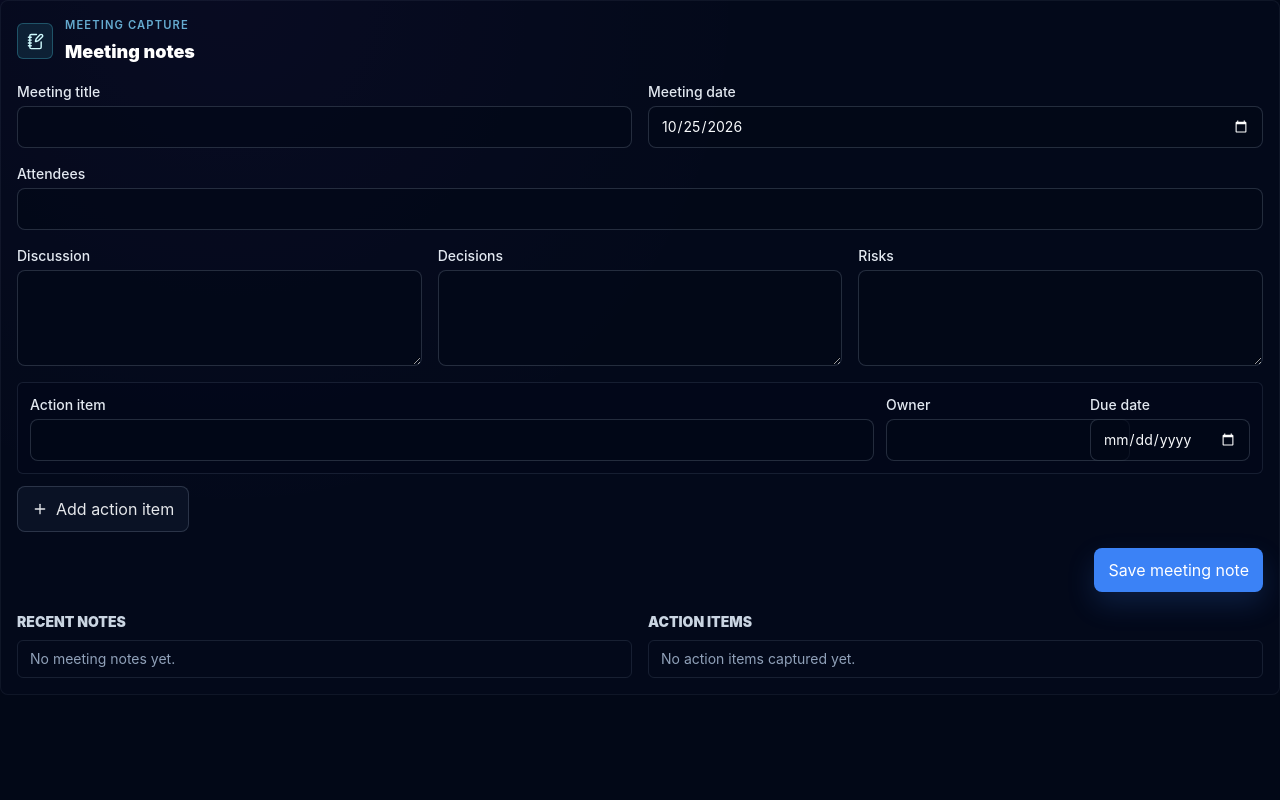
MeetingNotesPanel › requires a meeting title before saving
The width and height of the screenshot is (1280, 800).
Type "A note without a title." into the text box labelled "Discussion".
click(219, 318); type("A note without a title.")  # box [17,270,422,366]
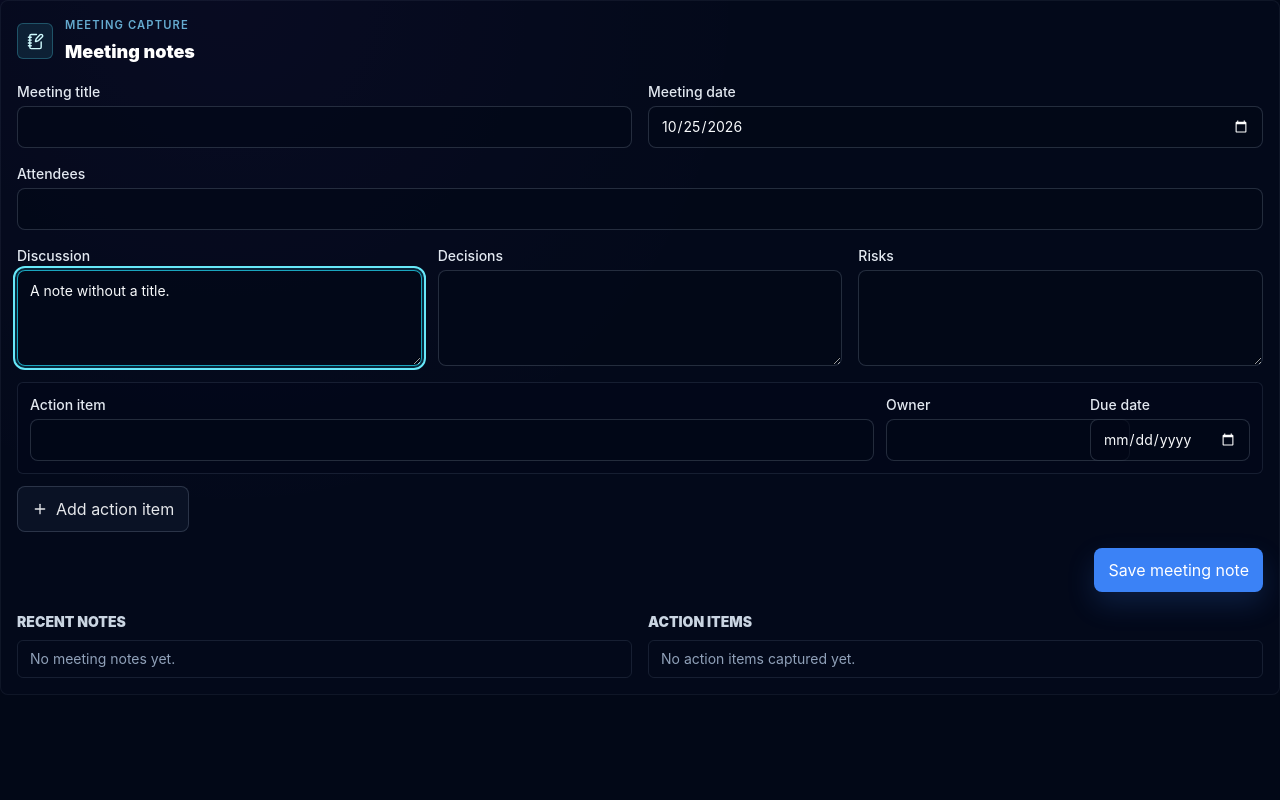
Click the button "Save meeting note".
click(1179, 570)  # box [1094,548,1263,592]
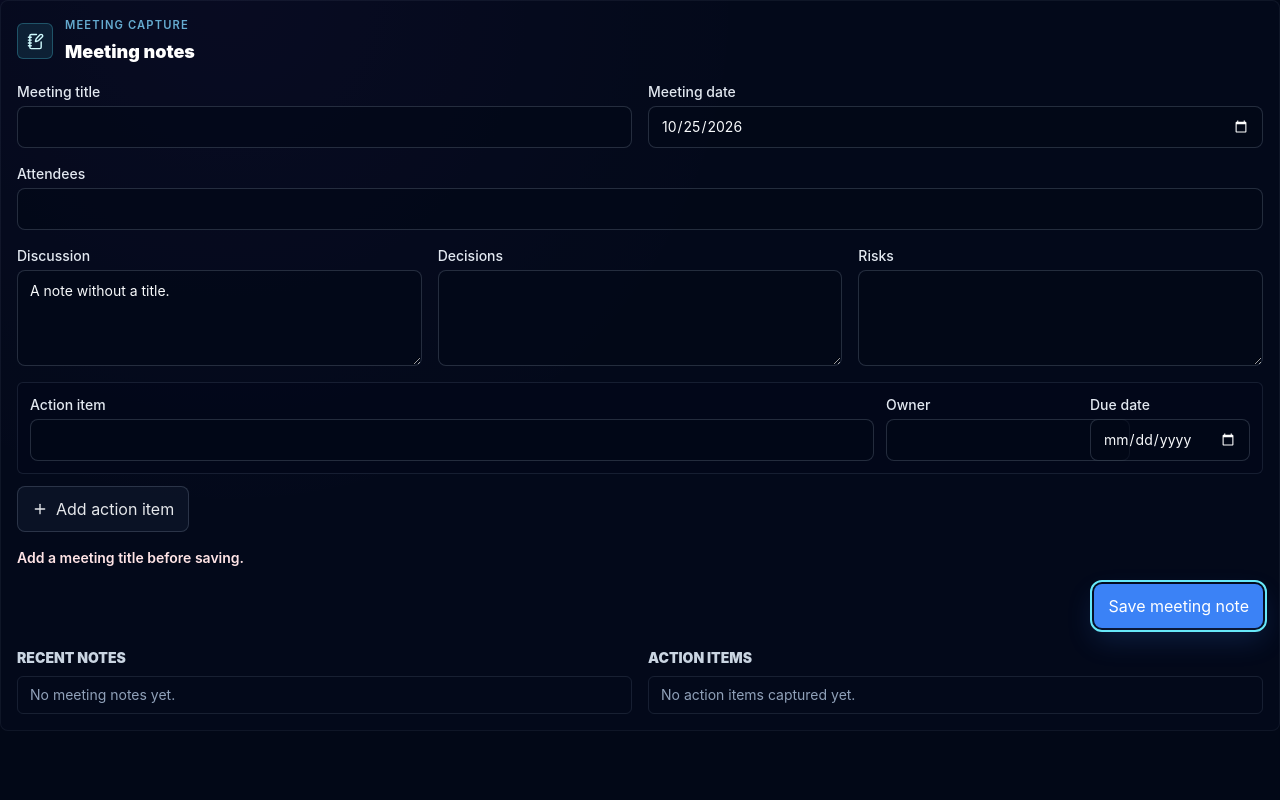
Now the text "Add a meeting title before saving." is shown, box [17,549,244,566]
